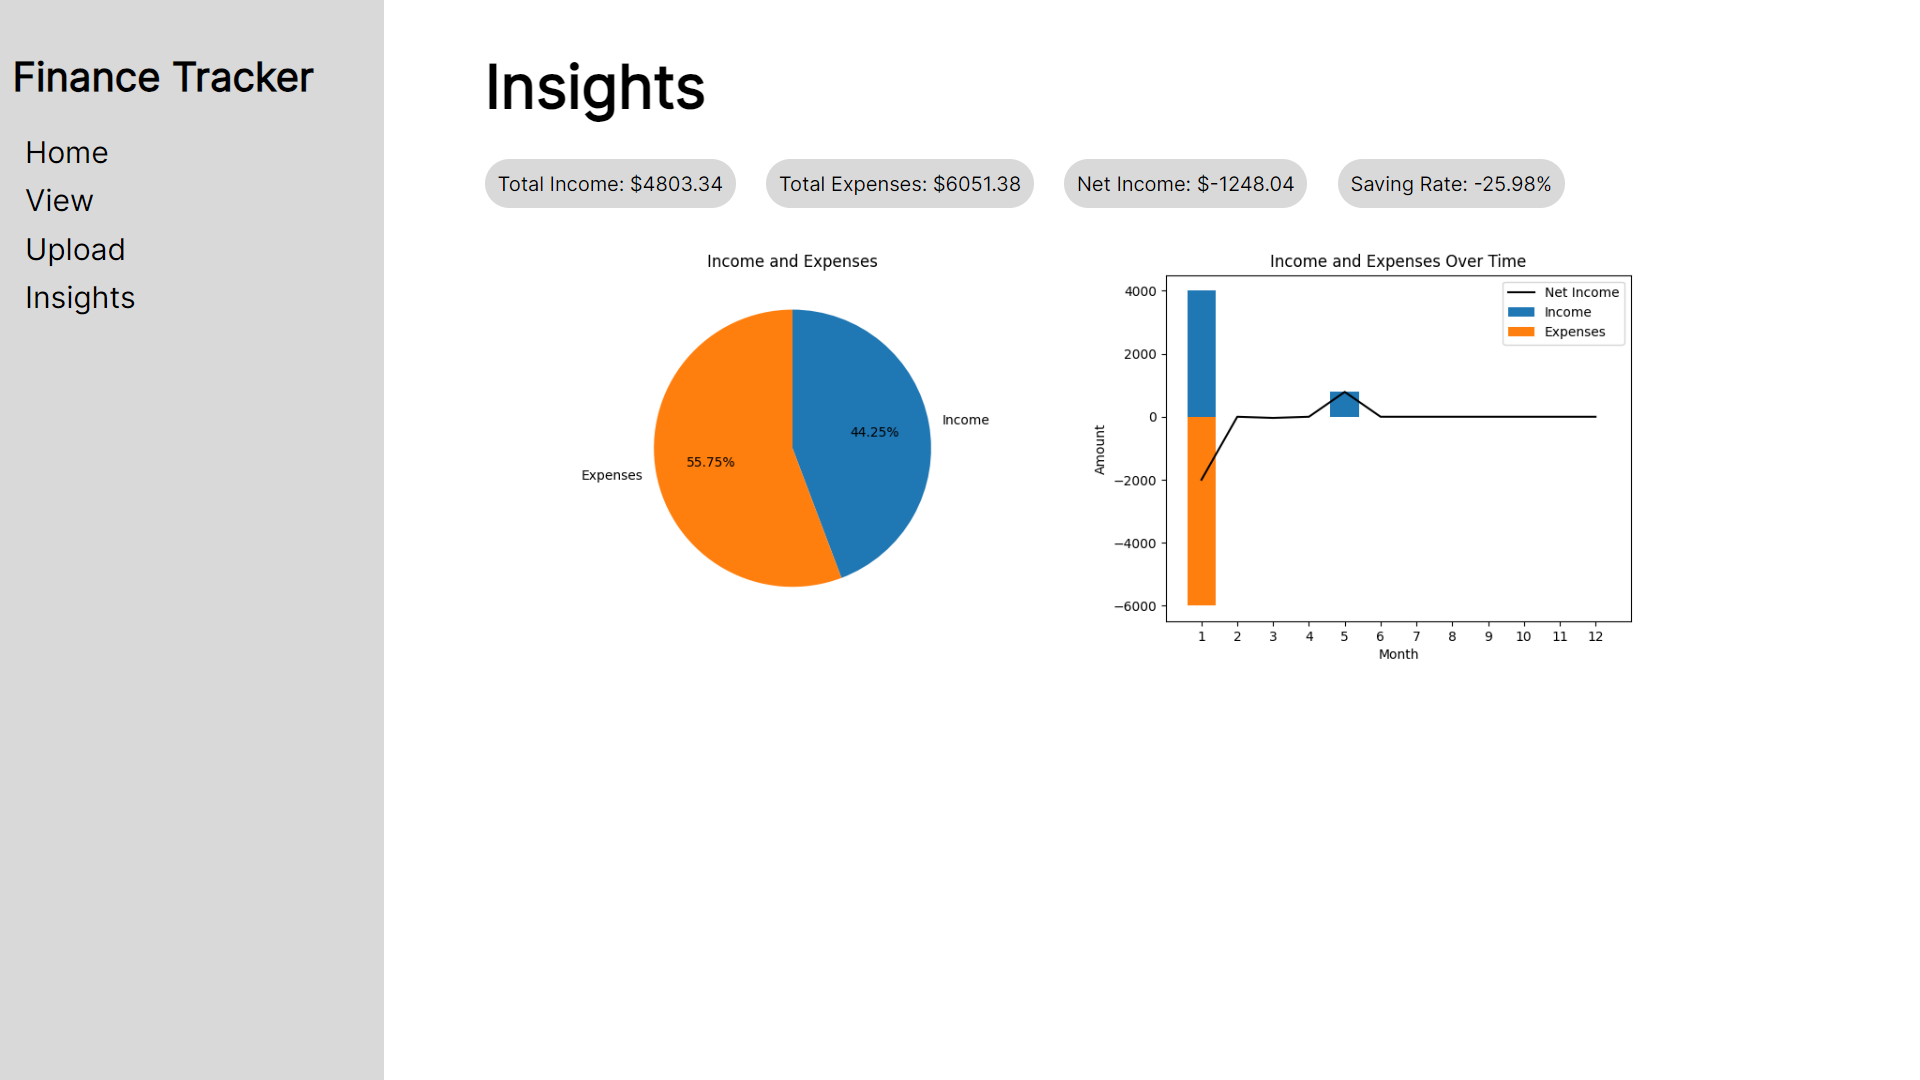

The page's visual inventory and layout, read from the dashboard file:
{"tool":"powerbi","page":{"name":"Net Income","canvas":[1280,720],"ordinal":6},"visuals":[{"type":"lineStackedColumnComboChart","title":"Net Income Over Time","fields":{"Y":["Income.Income","Expenses.Expenses Negative"],"Y2":["Income.Net Income"],"Category":["Transactions.Date.Variation.Date Hierarchy.Month"]},"box":[330,90,934.7,600],"z":0},{"type":"card","fields":{"Values":["Income.Net Income Label"]},"box":[375.1,15,890,74.8],"z":1000},{"type":"slicer","fields":{"Values":["Transactions.Date.Variation.Date Hierarchy.Month"]},"box":[195,15,179.7,74.8],"z":4000},{"type":"slicer","fields":{"Values":["Transactions.Date.Variation.Date Hierarchy.Year"]},"box":[15,15,180,75],"z":5000},{"type":"pieChart","fields":{"Y":["Income.Income","Expenses.Expenses"]},"box":[15,90,314.8,360],"z":6000},{"type":"card","fields":{"Values":["Income.Savings Rate"]},"box":[15,450,315,240],"z":7000}]}

Visuals, with their boxes in screenshot pixels (x1, y1, x2, y2), scaled from the page's 1280x720 canvas onto the 1920x1080 screenshot:
"Net Income Over Time" lineStackedColumnComboChart: x1=495, y1=135, x2=1897, y2=1035
card - Income.Net Income Label: x1=563, y1=22, x2=1898, y2=135
slicer - Transactions.Date.Variation.Date Hierarchy.Month: x1=292, y1=22, x2=562, y2=135
slicer - Transactions.Date.Variation.Date Hierarchy.Year: x1=22, y1=22, x2=292, y2=135
pieChart - Income.Income x Expenses.Expenses: x1=22, y1=135, x2=495, y2=675
card - Income.Savings Rate: x1=22, y1=675, x2=495, y2=1035
